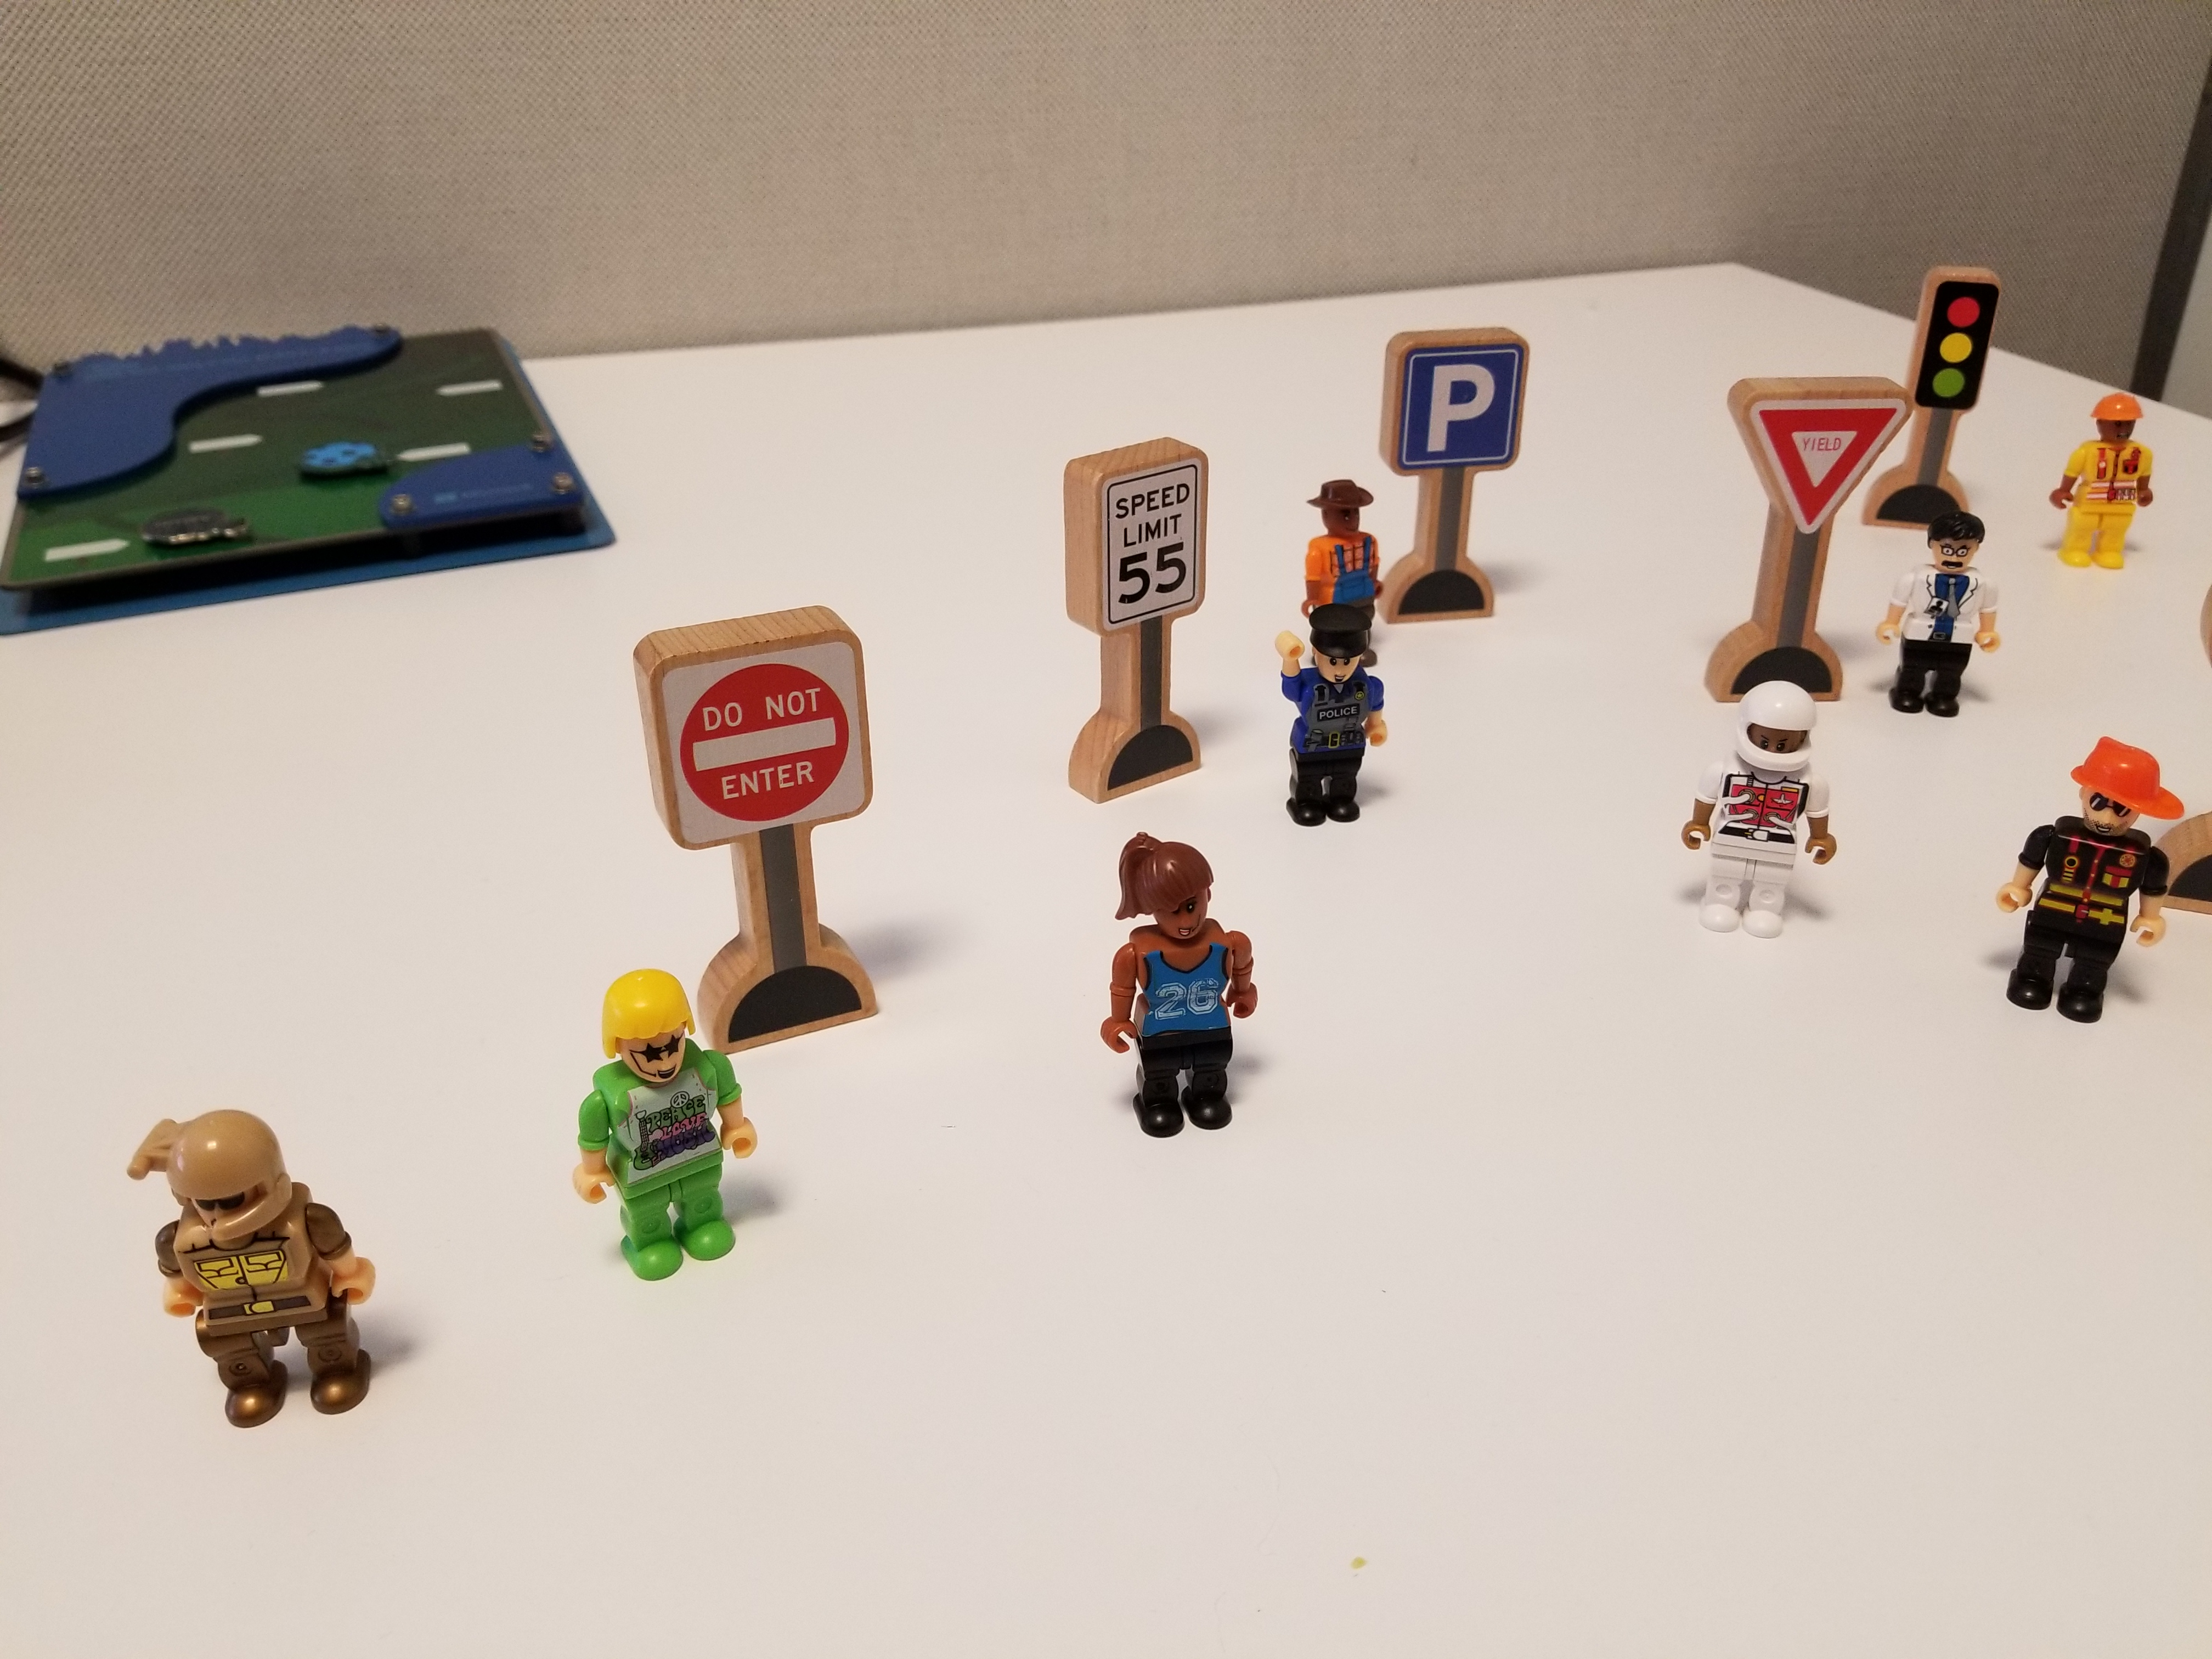Do not enter: (596, 624, 914, 945)
Parking: (1362, 304, 1539, 563)
Speed limit 55: (1041, 427, 1232, 789)
Yield: (1689, 332, 1893, 697)
person: (104, 1079, 416, 1456), (1068, 811, 1272, 1166), (558, 956, 749, 1285), (1998, 721, 2178, 1050), (1680, 670, 1855, 980), (1250, 598, 1421, 837)
